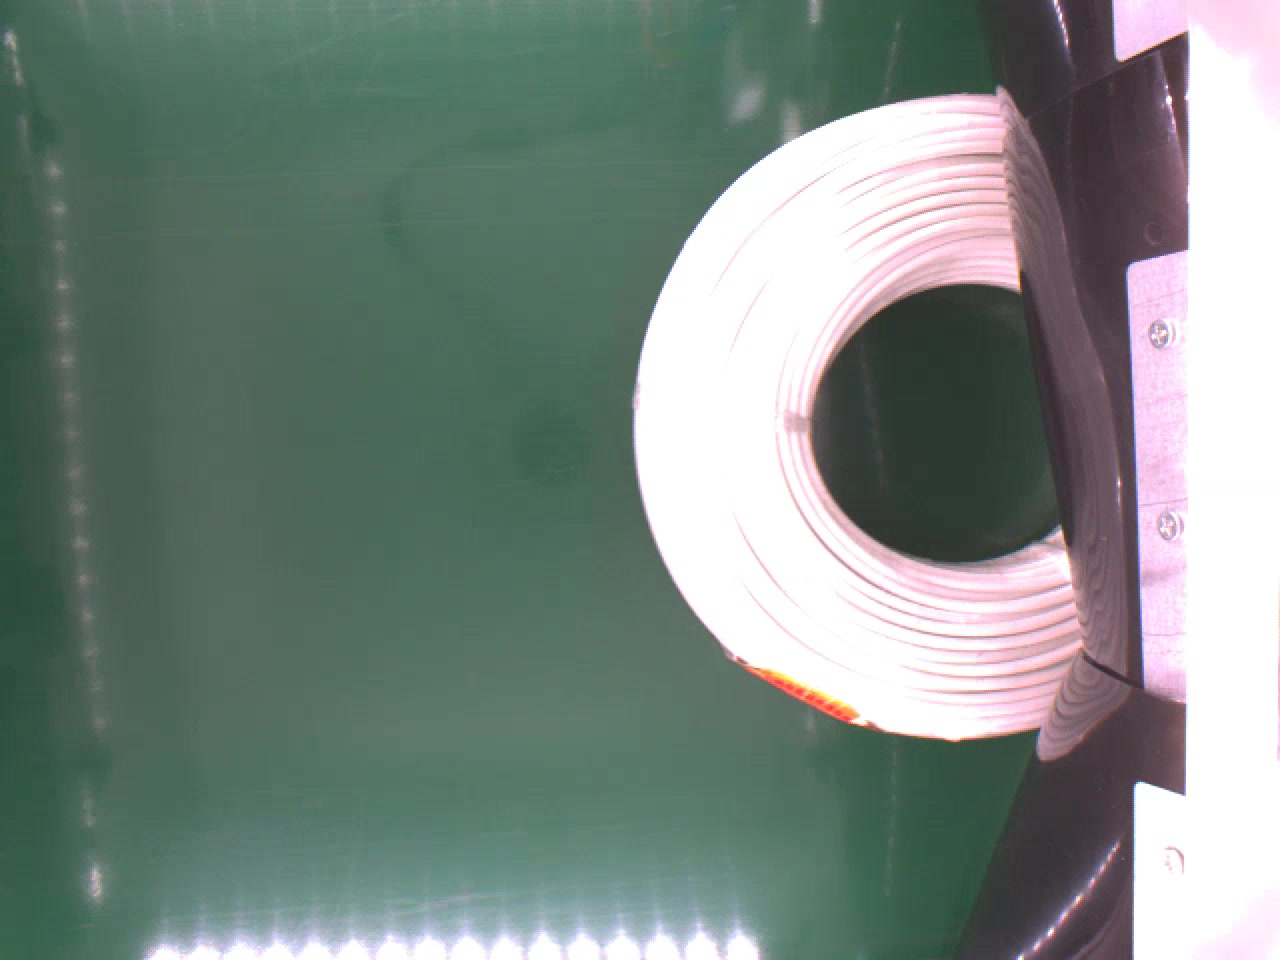white: (630, 87, 1081, 740)
